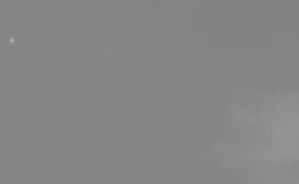Target: (11, 40, 14, 42)
